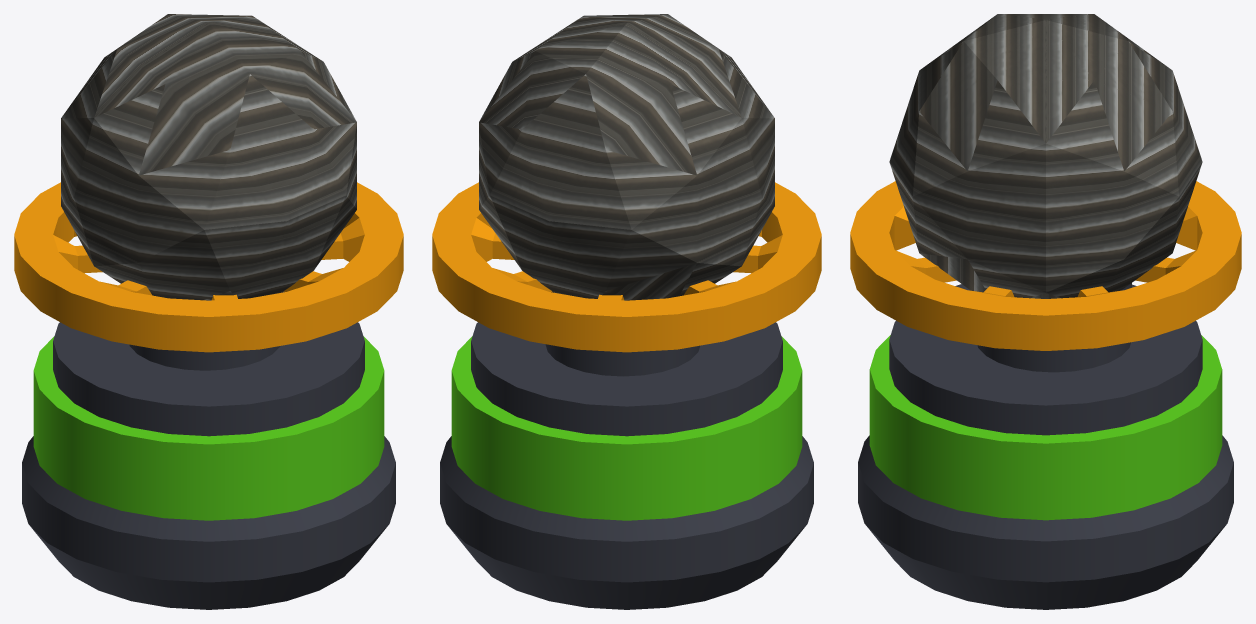
The model's file is tower_malachite.obj.
3 renders of one model, left to right at view 1: azimuth 30°, elevation 25°; view 2: azimuth 150°, elevation 25°; view 3: azimuth 270°, elevation 25°, orthographic.
Visible parts, largest first — view 1: mergedBlocks; view 2: mergedBlocks; view 3: mergedBlocks.
Part boxes in pixels (left/top/right/bottom): mergedBlocks: left=14, top=14, right=403, bottom=609; mergedBlocks: left=432, top=14, right=821, bottom=609; mergedBlocks: left=850, top=14, right=1241, bottom=609.
Bounding box in the file's own units: 1 × 1.48 × 1.
5 materials, 1 textured.
